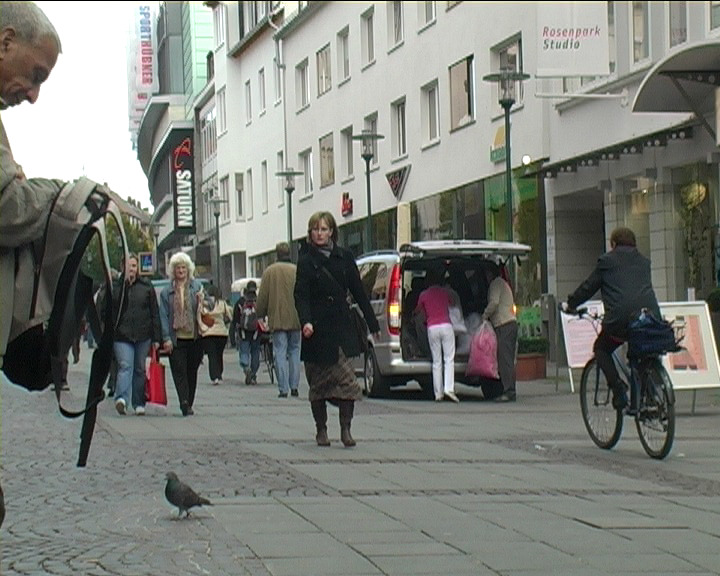undeflect: (294, 208, 359, 296), (164, 252, 199, 312)
